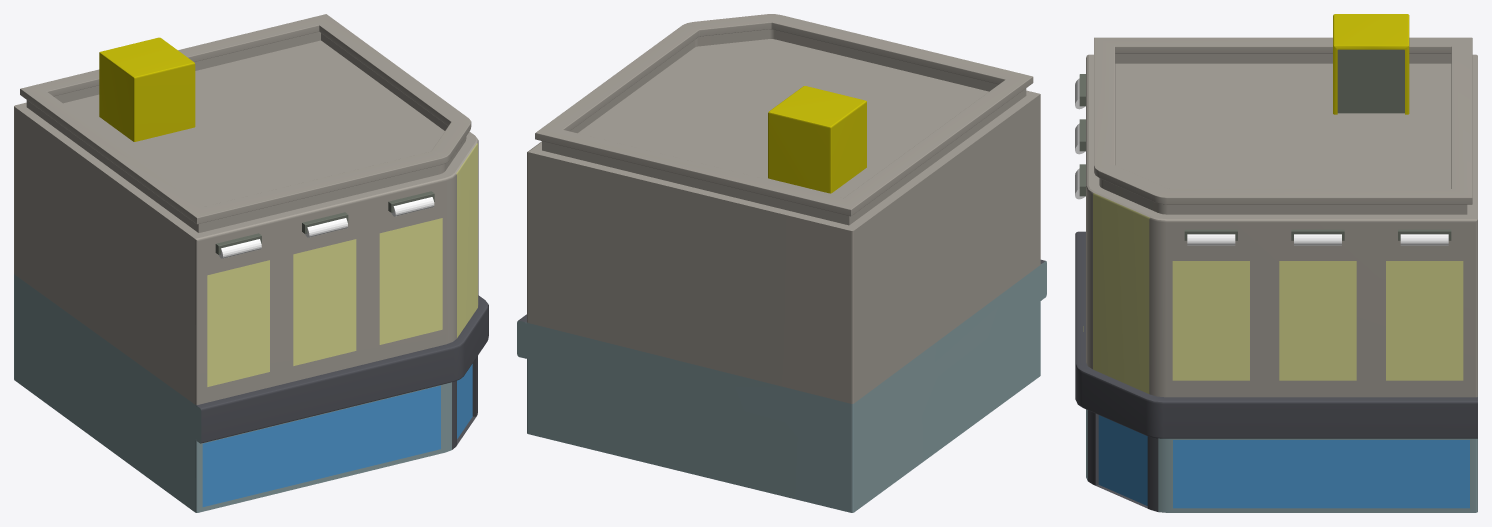
File: MOD_ShopB.fbx
The picture shows the model from 3 angles, left to right: view 1: azimuth 30°, elevation 25°; view 2: azimuth 150°, elevation 25°; view 3: azimuth 270°, elevation 25°; orthographic projection. The views are drawn at different scales.
Visible parts, largest first — view 1: MOD_ShopB; view 2: MOD_ShopB; view 3: MOD_ShopB.
Part boxes in pixels (box(x1,y1,x2,y2)): MOD_ShopB: box(14, 14, 488, 512); MOD_ShopB: box(517, 14, 1046, 512); MOD_ShopB: box(1075, 14, 1477, 512).
Size of the model in its own units: 2113 by 2096 by 2115.
